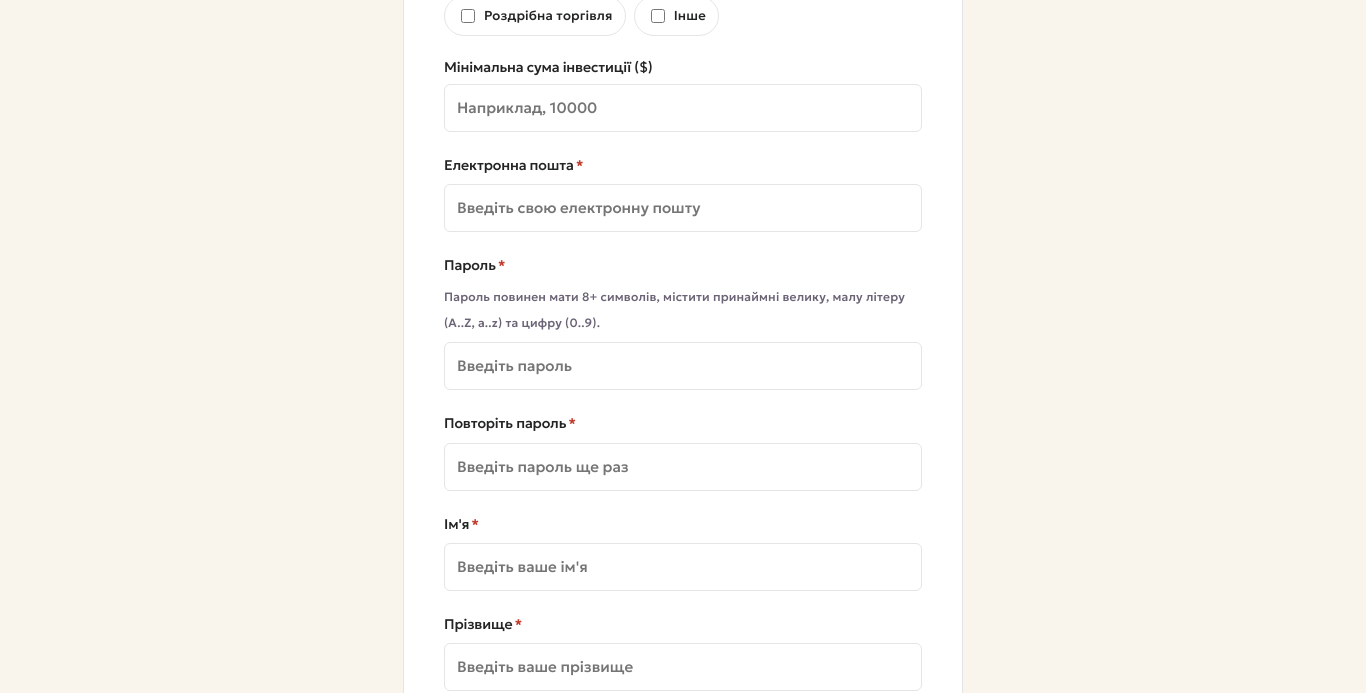
Test: RegisterInvestor › shows a mismatch error when passwords do not match
The image size is (1366, 693).
(page scrolled)
Step 1. Type "StrongPass123" into the password field labelled "Пароль" → (683, 366), box [444,342,922,390]
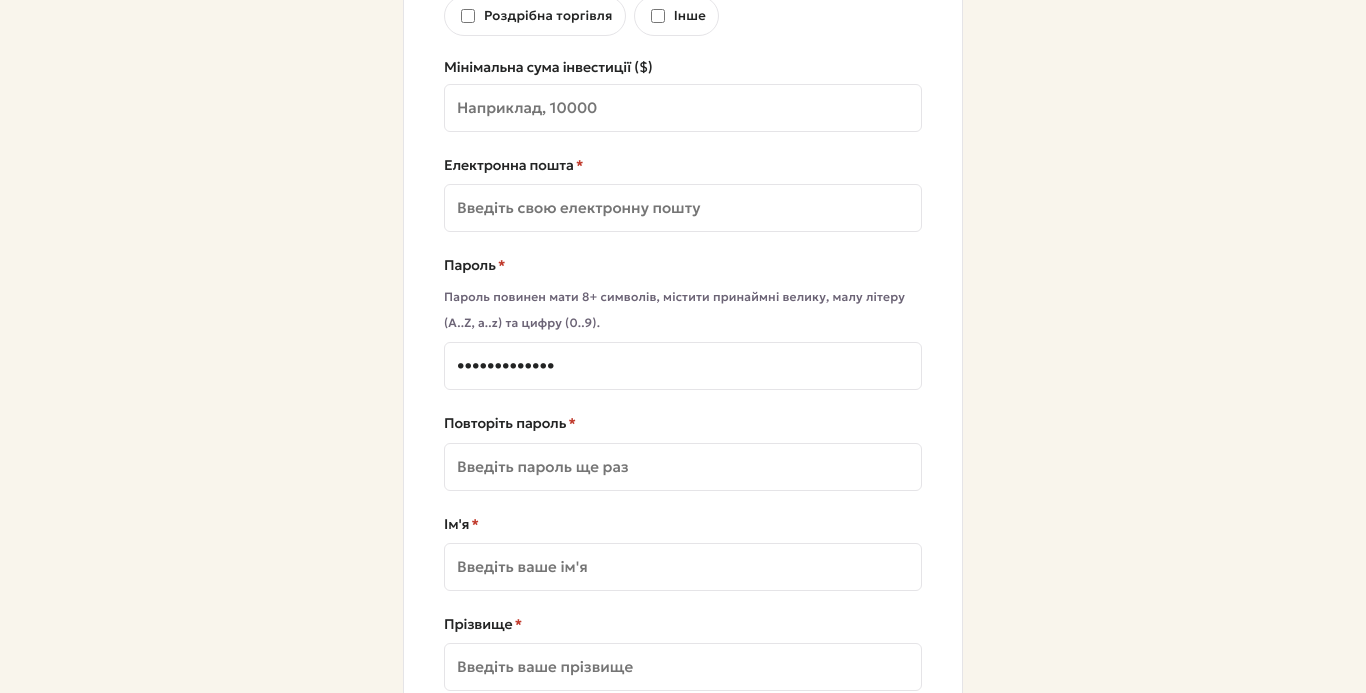
Step 2. Type "Different123" into the password field labelled "Повторіть пароль" → (683, 467), box [444,442,922,491]
(page scrolled)
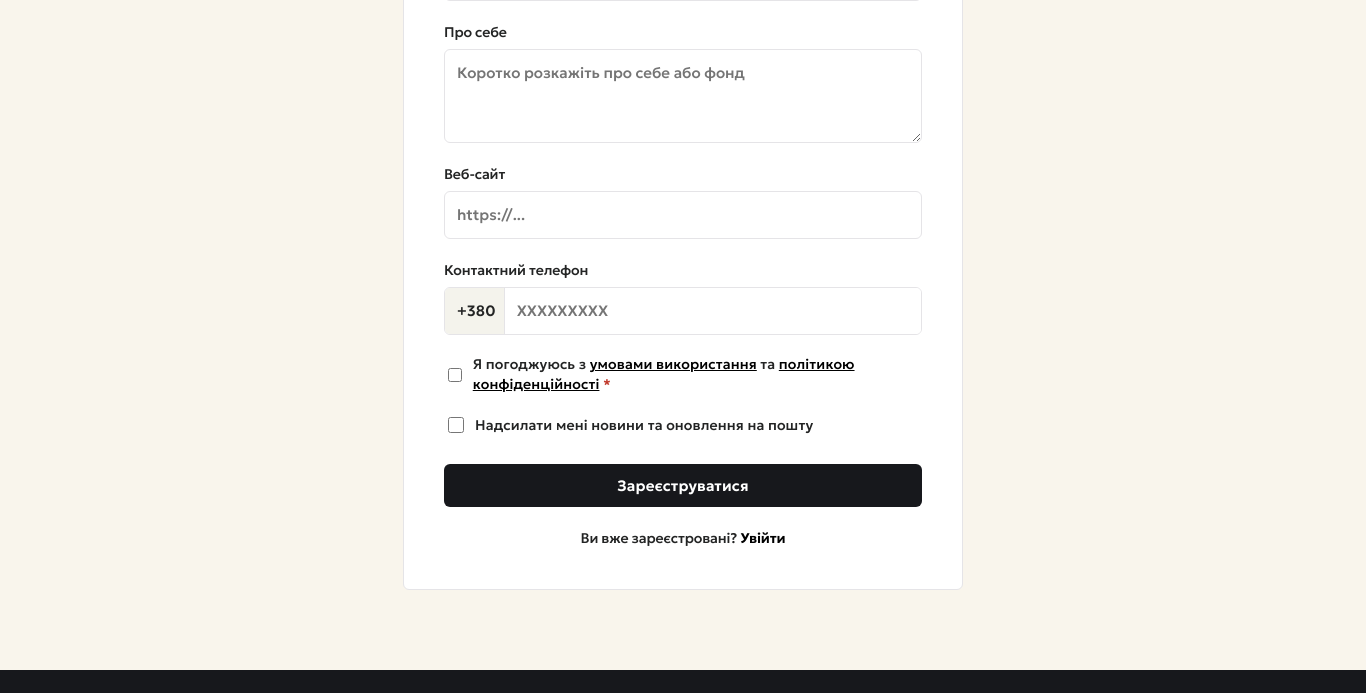
Step 3. Click the button "Зареєструватися" → (683, 486), box [444,464,922,507]
(page scrolled)
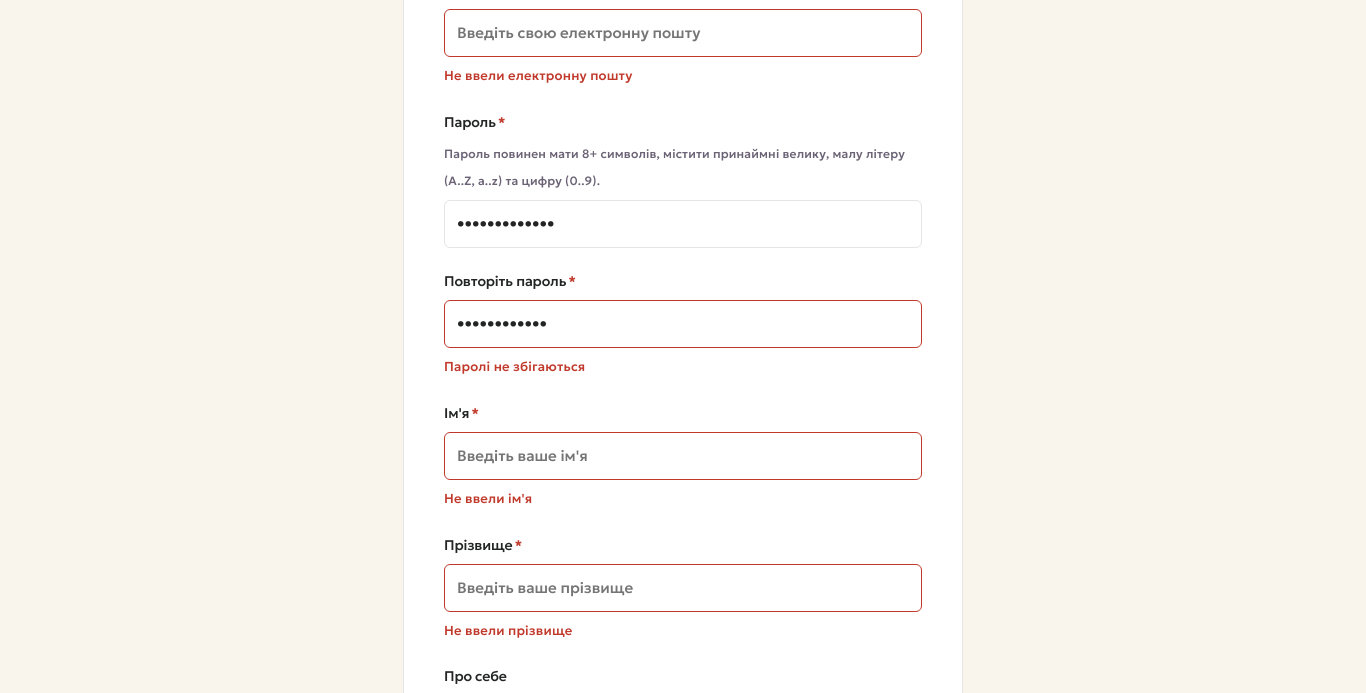
Result: the text "Паролі не збігаються" is shown at [444,358,585,375]
